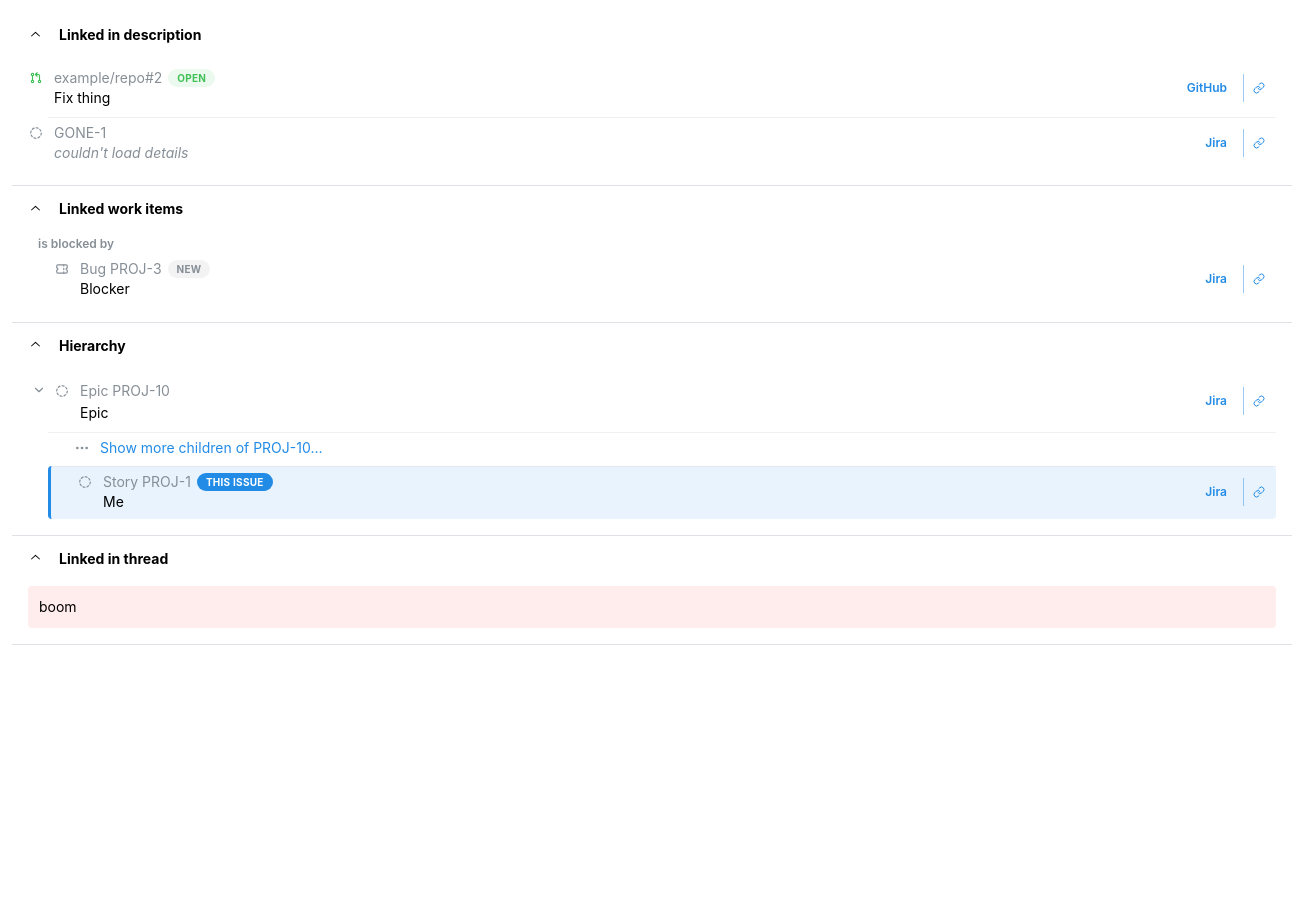
LinkedResourcesPanel › lazily loads a collapsed node's children
This screenshot has width=1304, height=912.
Expected: the text "Grandkid" is not shown
Click the button "Show more children of PROJ-10…". click: (211, 448)
box: [100,438,322,458]
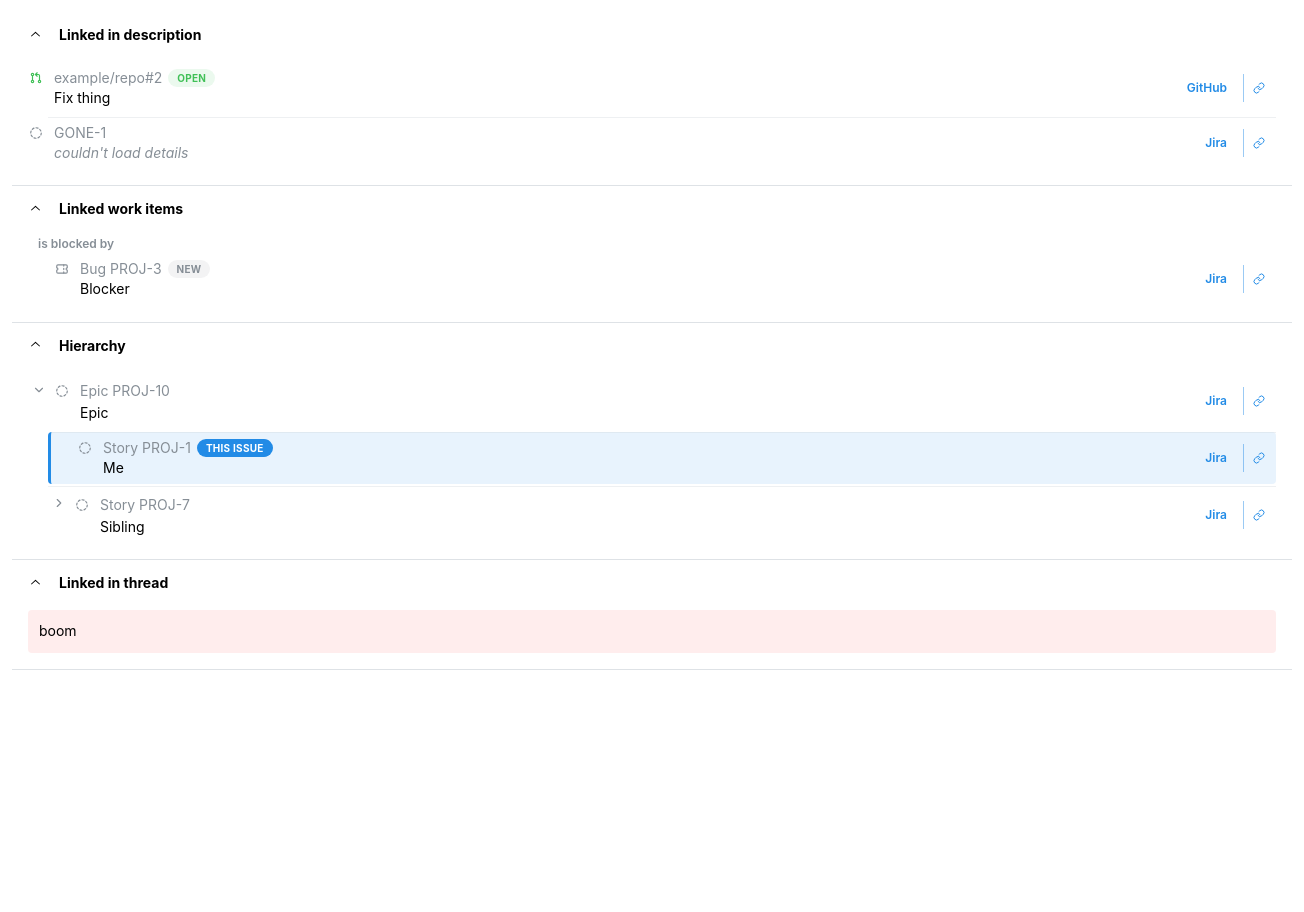
// Shown → its children are fetched up front, before any expand.
Click the button named "Expand PROJ-7". click: (59, 503)
box: [48,492,70,514]
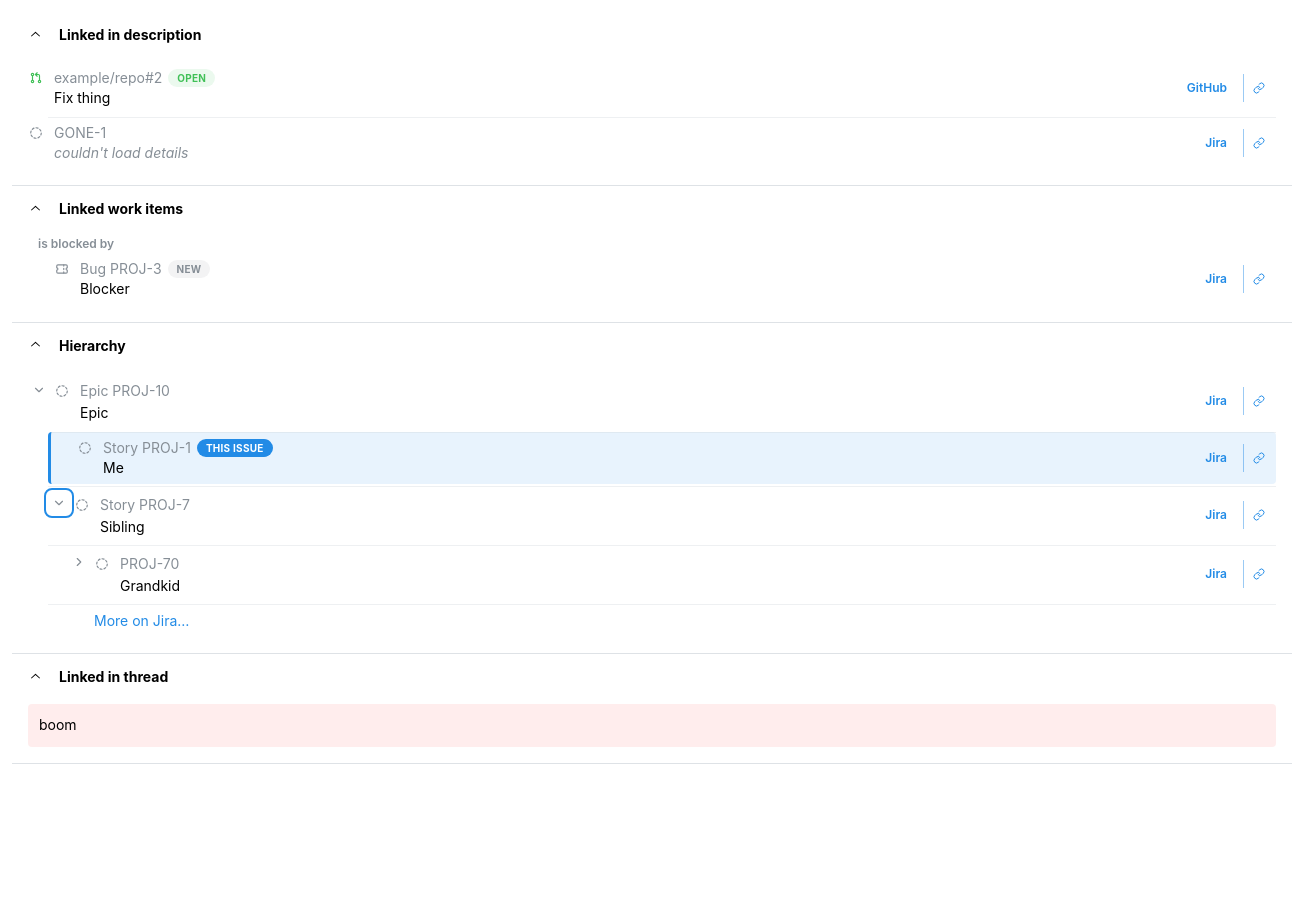
Expected: the text "Grandkid" is shown, [120,577,180,594]
Expected: the link "More on Jira…" is shown, [94,612,189,630]
